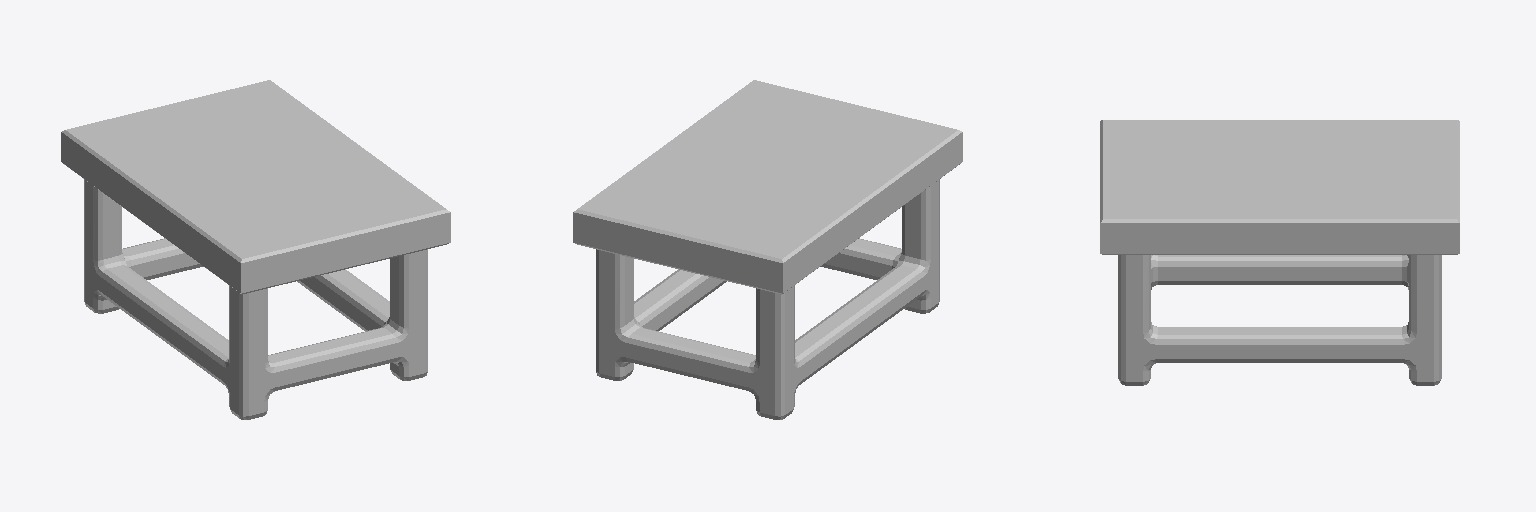
Rendered from bangku kayu rev.obj.
3 renders of one model, left to right at view 1: azimuth 30°, elevation 25°; view 2: azimuth 150°, elevation 25°; view 3: azimuth 270°, elevation 25°, orthographic.
Visible parts, largest first — view 1: Bangku_kayu:pCube29group1 group7; view 2: Bangku_kayu:pCube29group1 group7; view 3: Bangku_kayu:pCube29group1 group7.
Part boxes in pixels (x1,y1,x2,y2): Bangku_kayu:pCube29group1 group7: (61, 80, 450, 419); Bangku_kayu:pCube29group1 group7: (573, 80, 962, 419); Bangku_kayu:pCube29group1 group7: (1100, 120, 1459, 385).
Size of the model in its own units: 1 by 0.7893 by 1.49.